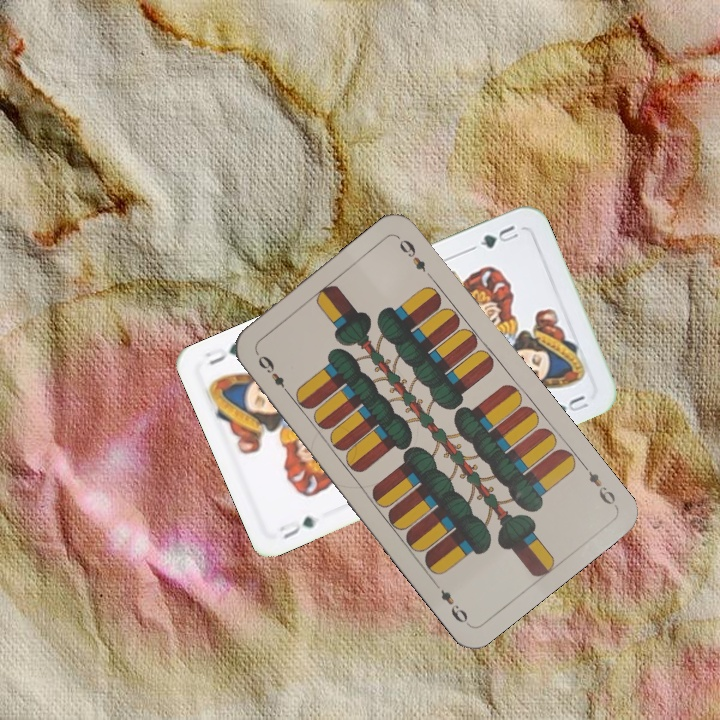E9: (578, 459, 619, 508), (253, 351, 293, 398)
GU: (476, 221, 521, 251), (279, 512, 318, 542)
